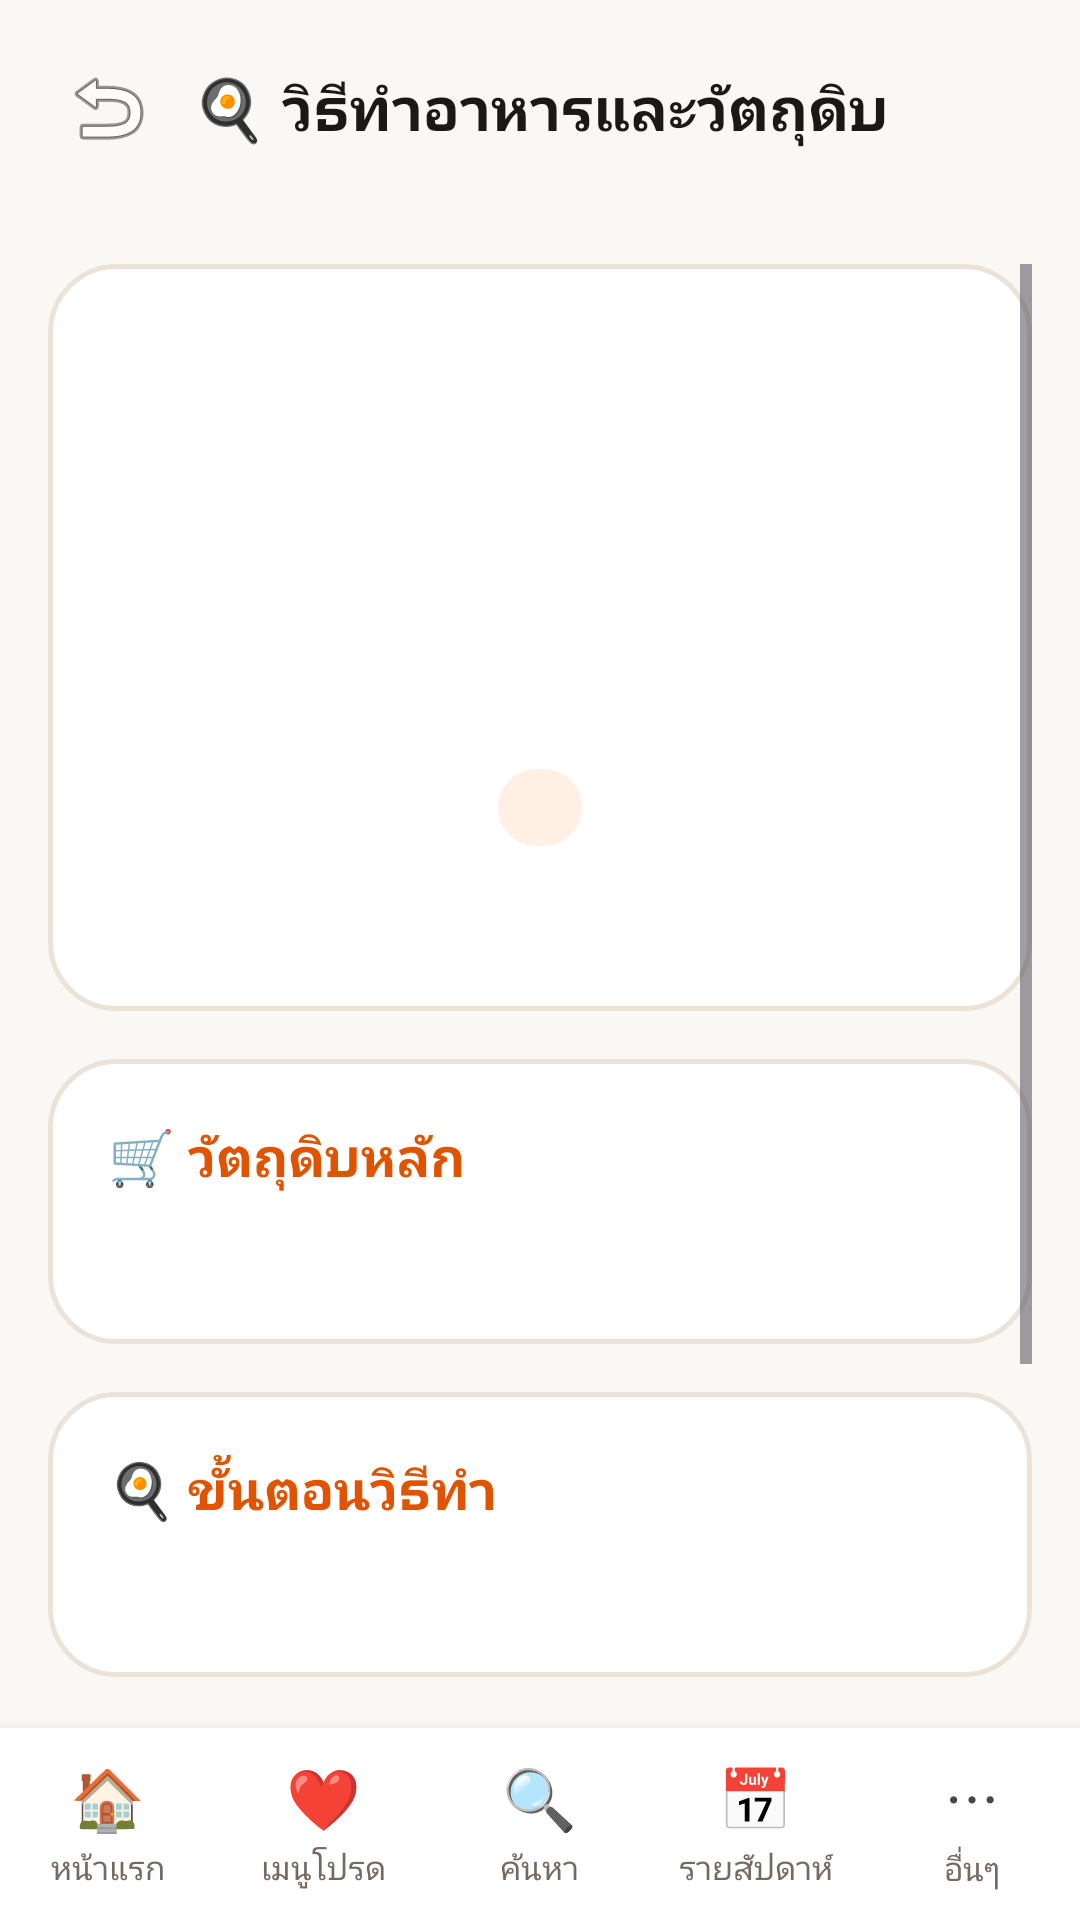

Icons on this 1080*1920 Android screen, each with its box as (x1, y1, x2, y2):
Back: (75, 77, 144, 140)
